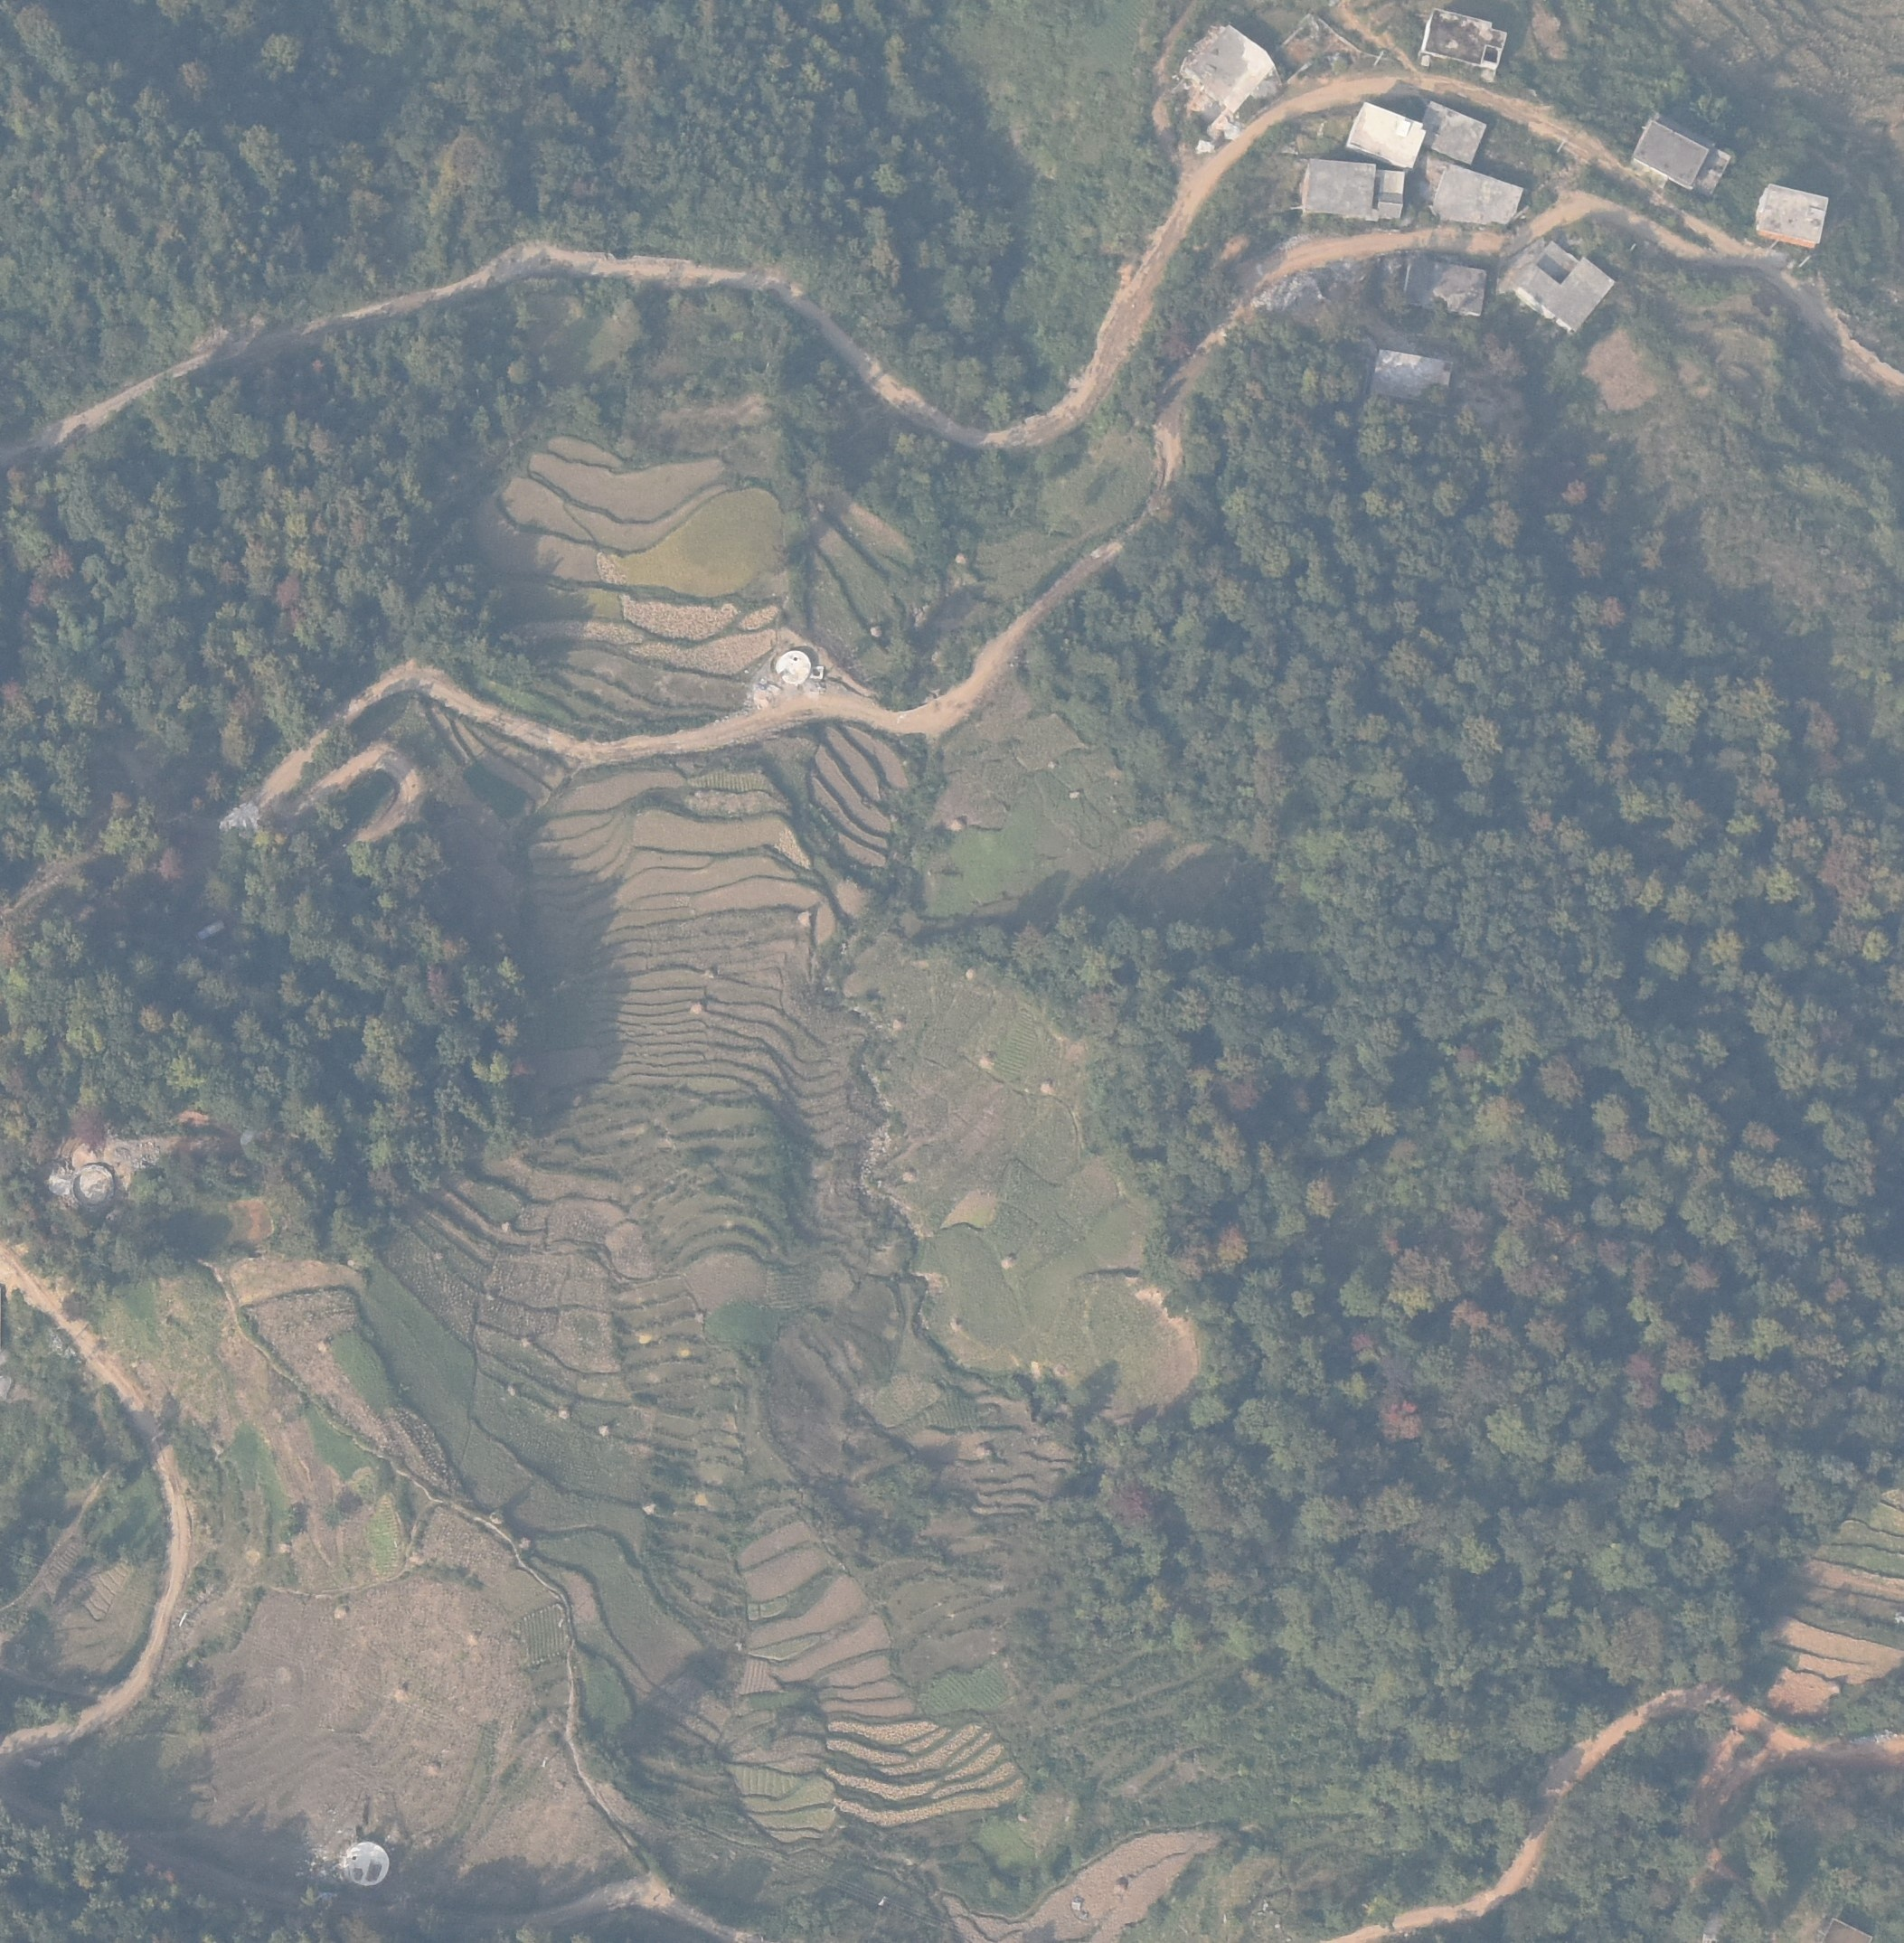building: (1497, 241, 1616, 331), (1180, 25, 1277, 116), (1632, 114, 1730, 195), (1421, 7, 1508, 84), (1302, 157, 1405, 220), (1431, 165, 1524, 224), (1347, 103, 1424, 169), (1403, 259, 1488, 317), (1369, 350, 1454, 408), (1757, 184, 1829, 247), (1419, 102, 1487, 165)
cable-tower: (178, 1612, 188, 1627), (877, 1896, 887, 1906), (542, 1756, 549, 1767)
well: (339, 1841, 390, 1886), (775, 650, 824, 685)
